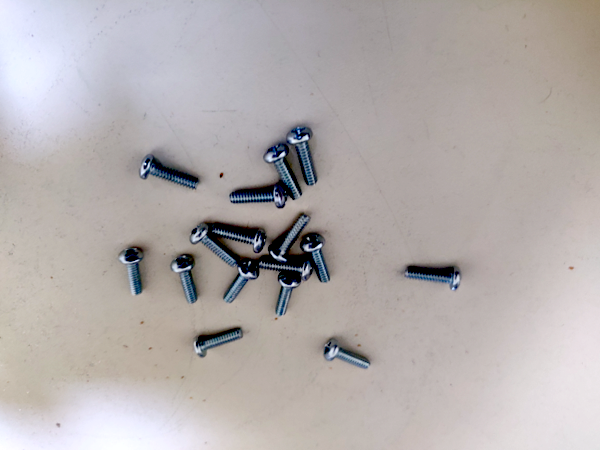shortscrew: (264, 143, 303, 200), (139, 154, 199, 190), (190, 223, 239, 267), (268, 214, 311, 264), (287, 127, 318, 187), (212, 224, 267, 254), (300, 233, 331, 284), (223, 261, 259, 304), (323, 339, 372, 370), (194, 329, 243, 360), (404, 267, 462, 292), (258, 257, 315, 282), (171, 255, 199, 304), (230, 185, 287, 209), (118, 248, 146, 296), (276, 272, 303, 319)
